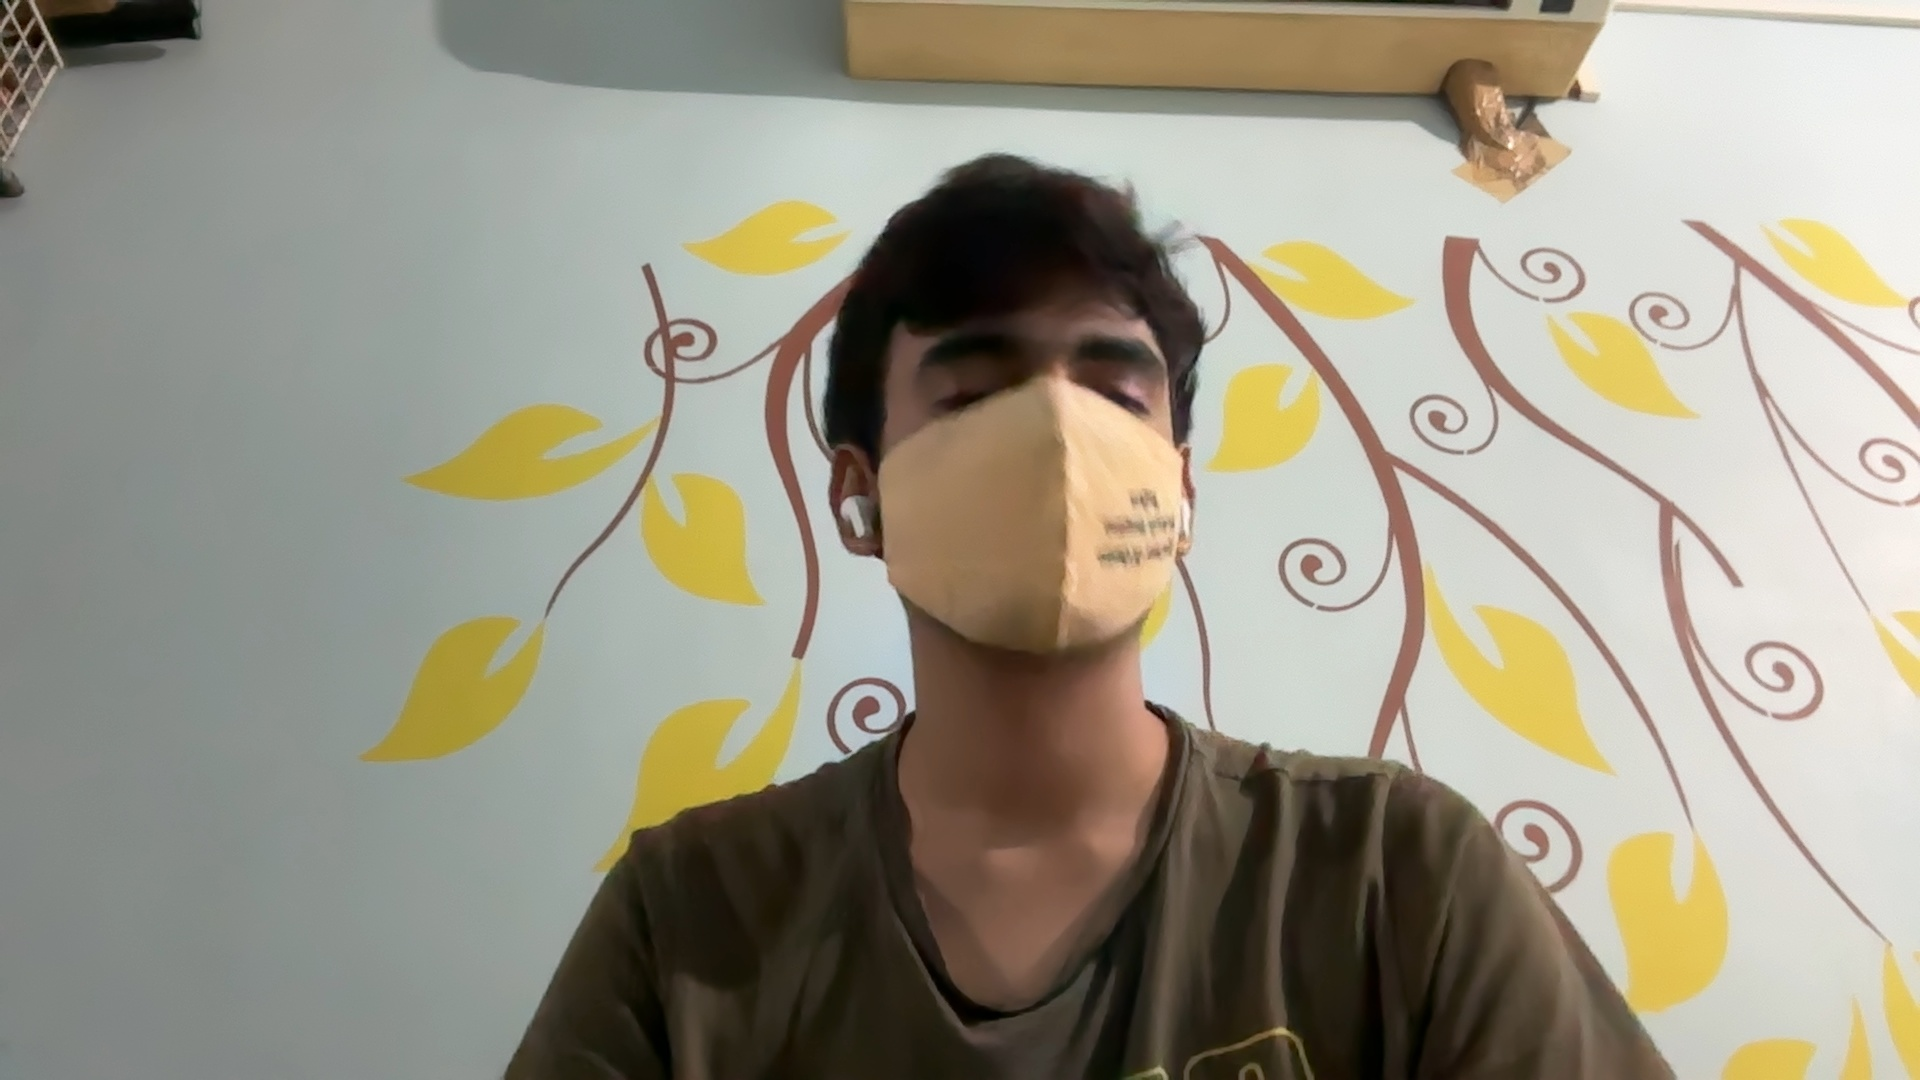Mask: (898, 402, 1210, 666)
